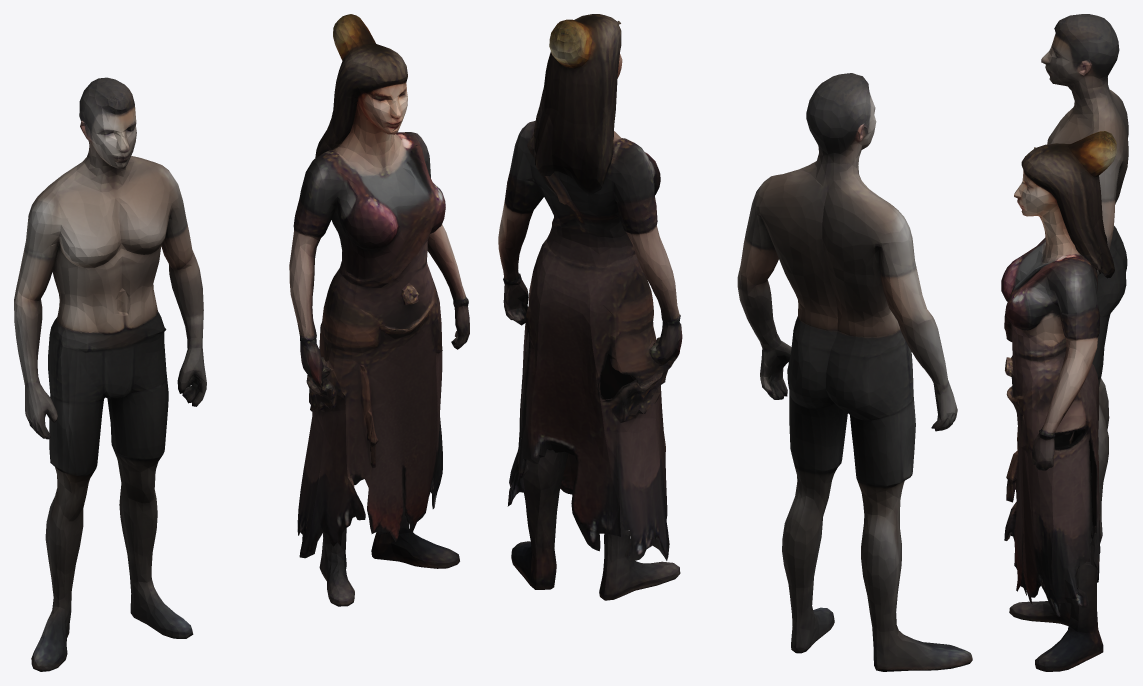
The model's file is import_tmp_hMdb8hrPwc.glb.
3 renders of one model, left to right at view 1: azimuth 30°, elevation 25°; view 2: azimuth 150°, elevation 25°; view 3: azimuth 270°, elevation 25°, orthographic. The views are drawn at different scales.
Visible parts, largest first — view 1: world; view 2: world; view 3: world.
Boxes of the visible parts, left/top/right/bottom form: world: left=14, top=14, right=469, bottom=671; world: left=498, top=14, right=972, bottom=671; world: left=1001, top=14, right=1128, bottom=671.
Bounding box in the file's own units: 0.8383 × 1 × 0.2266.
Materials: 1 (1 with a texture image).
